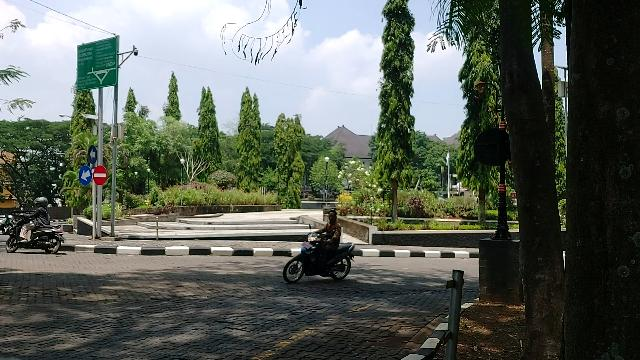helm: (35, 197, 50, 211)
motor: (284, 224, 357, 284), (6, 208, 66, 254)
non-helm: (329, 211, 338, 224)
